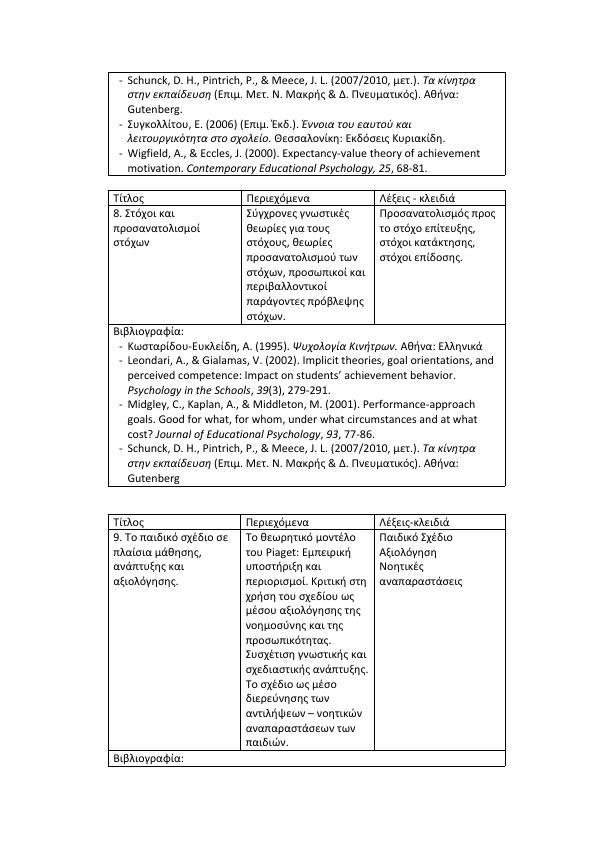table: (109, 189, 506, 486), (108, 513, 506, 767), (107, 71, 505, 176)
